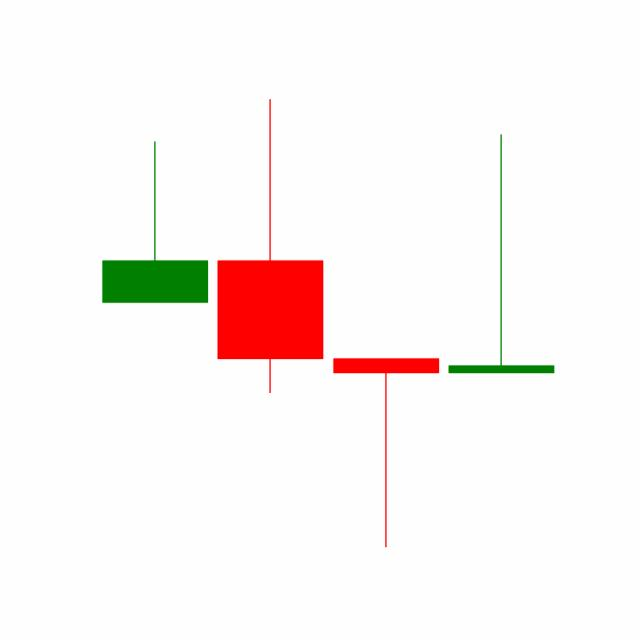Hammer: (328, 355, 444, 549)
